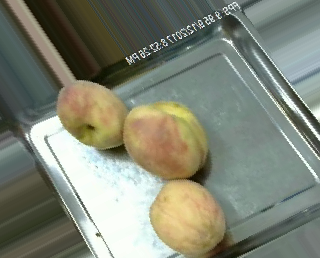Peach: (121, 100, 210, 180), (149, 179, 225, 255), (57, 81, 127, 150)
